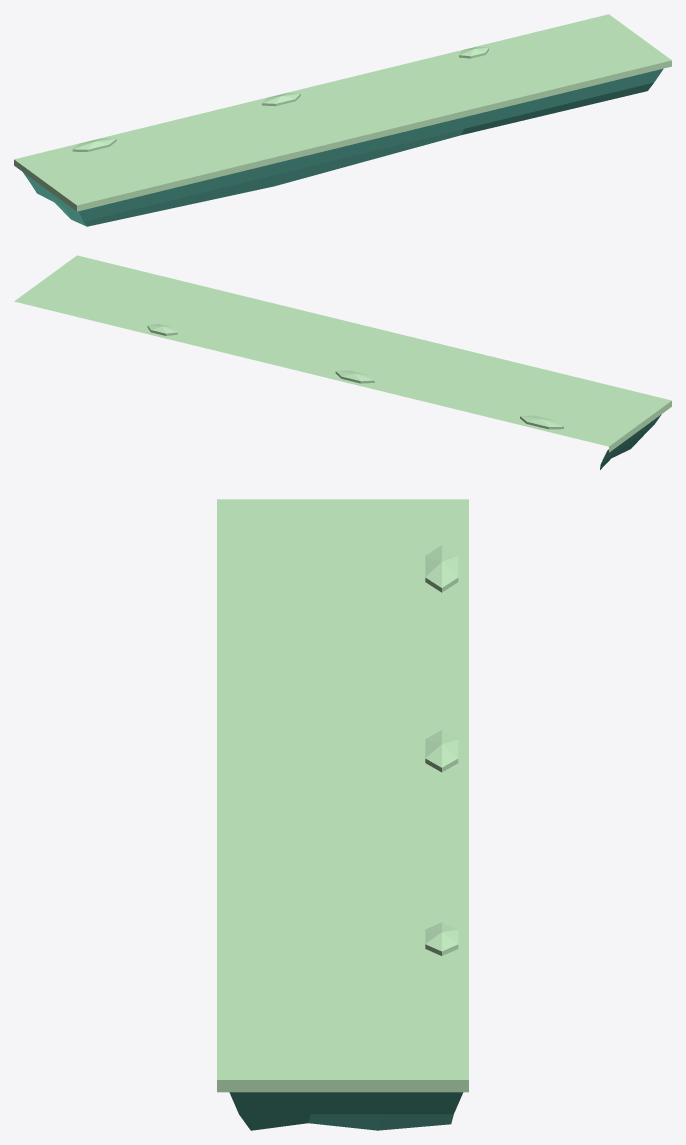
Rendered from floe8.glb.
3 renders of one model, top to bottom at view 1: azimuth 30°, elevation 25°; view 2: azimuth 150°, elevation 25°; view 3: azimuth 270°, elevation 25°, orthographic. The views are drawn at different scales.
Parts seen in each view (by area): view 1: Floe; view 2: Floe; view 3: Floe.
Boxes of the visible parts, <box> form: Floe: <box>14,14,671,226</box>; Floe: <box>14,255,671,469</box>; Floe: <box>217,499,468,1130</box>.
Size of the model in its own units: 8.06 by 0.5191 by 1.48.
